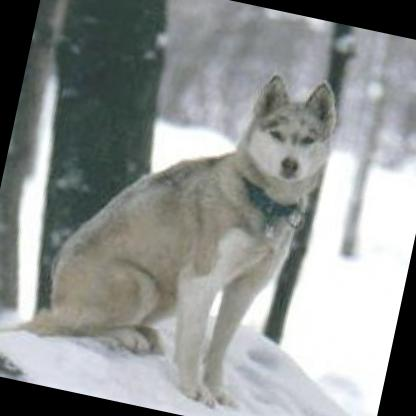Eskimo_dog: (0, 22, 345, 416)
